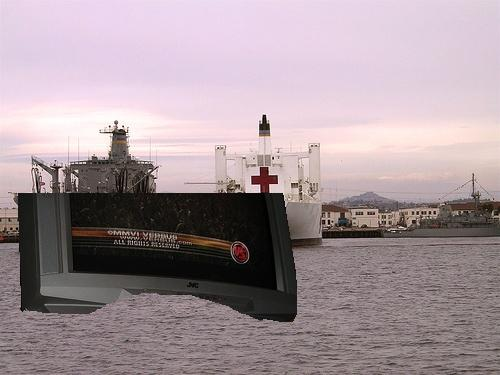tampered: (19, 194, 297, 322)
